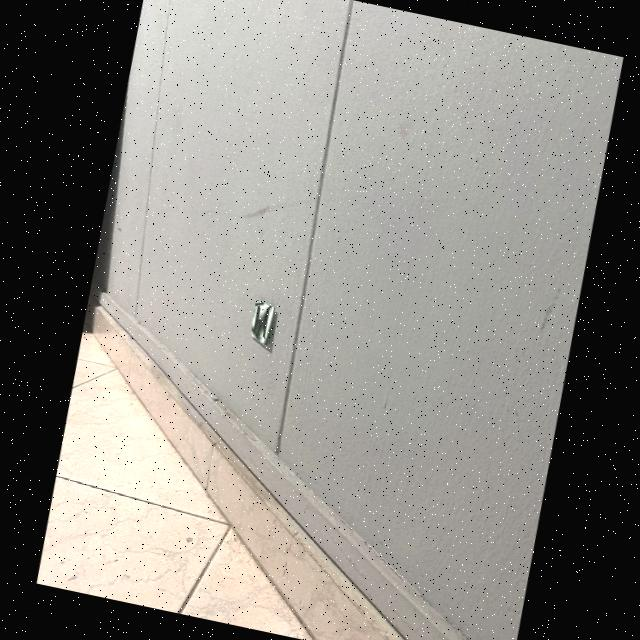H: (251, 306, 267, 338)
